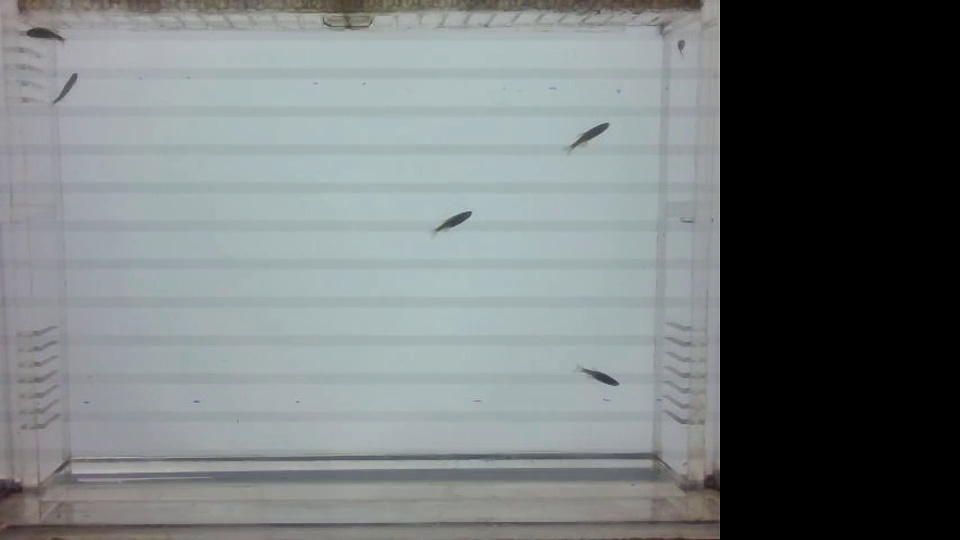fish: (42, 65, 92, 114), (556, 116, 612, 157), (424, 204, 476, 238), (568, 360, 628, 388), (20, 20, 68, 49), (670, 36, 688, 56)
